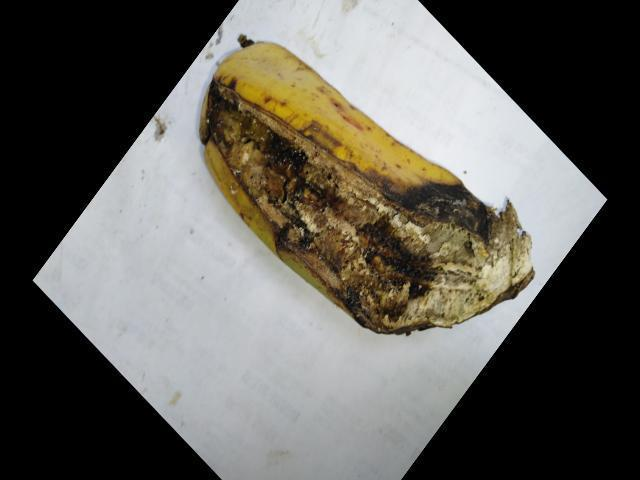rotten: (191, 73, 412, 276), (315, 158, 529, 340)
